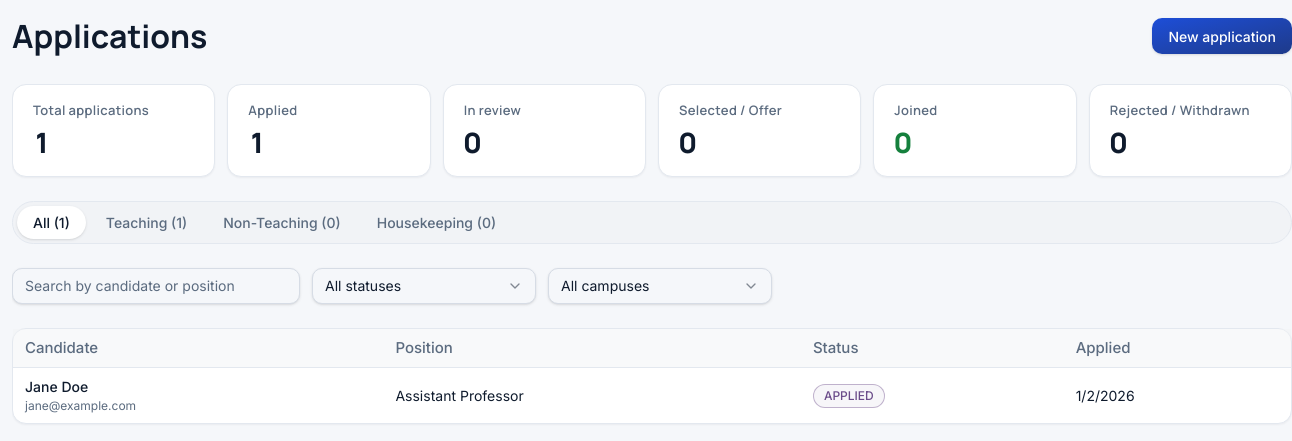
ApplicationsListPage › shows a filters-specific empty state when filters narrow a non-empty list to zero
Expected: the link "Jane Doe" is shown, [25,378,88,395]
In the field with placeholder "Search by candidate or position": (156, 286) [12,268,300,304], type "nonexistent"
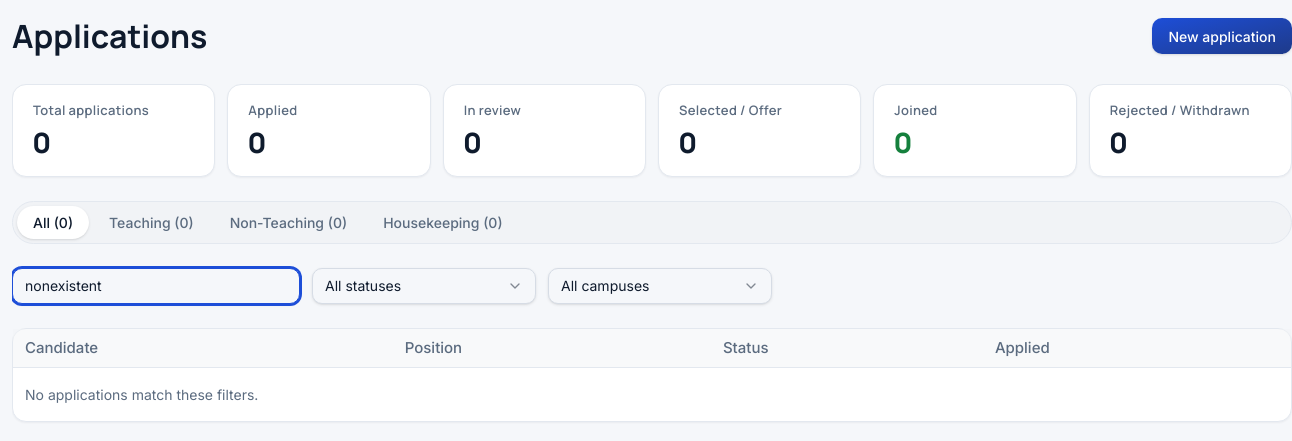
Now the text "No applications match these filters." is shown, box [13,368,1291,421]
